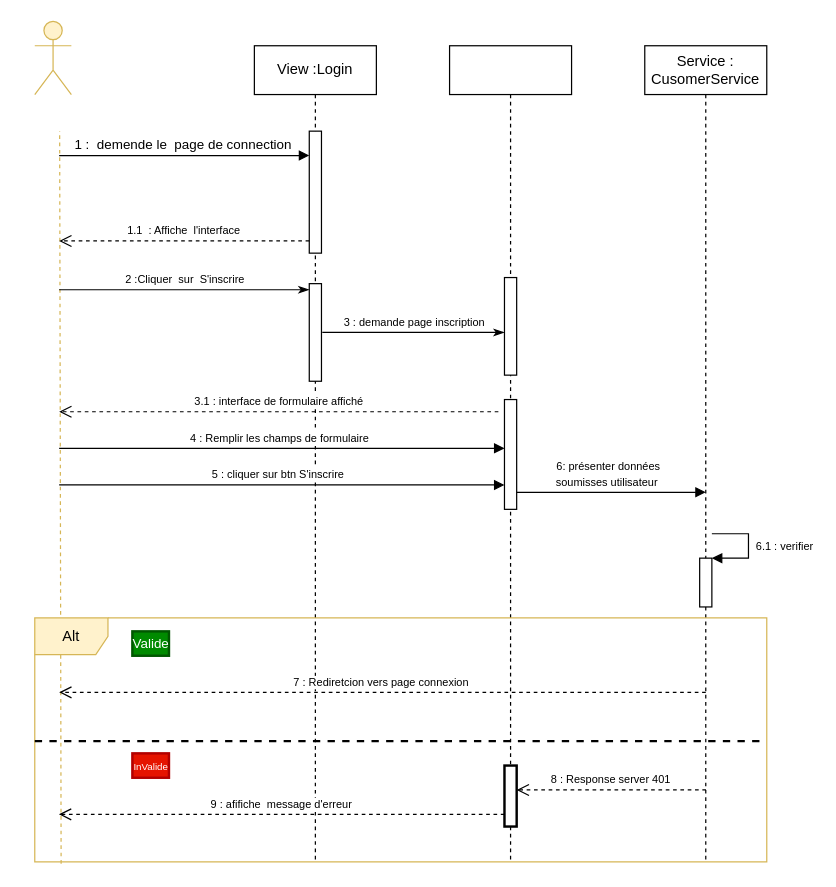
This 836x887 diagram has some shape labels left out. Each missing label, with the centre of its shape:
Utilisateur: pixel 52 57
View : Inscription: pixel 510 454
